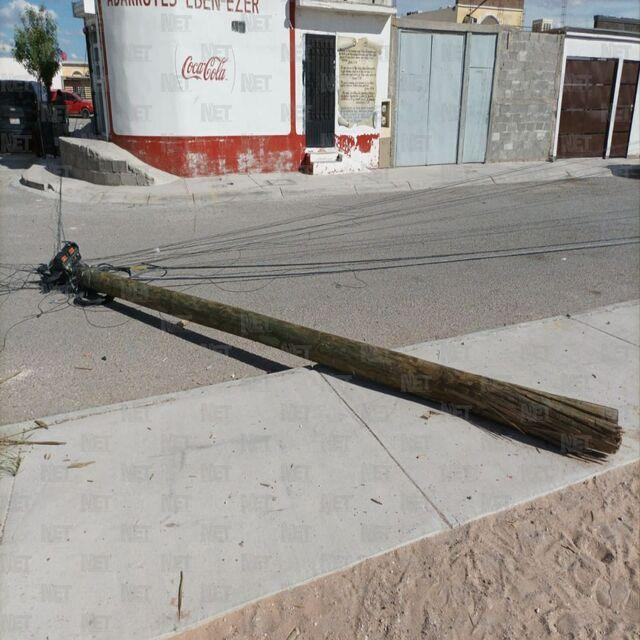Inclined Pole: (44, 241, 627, 461)
